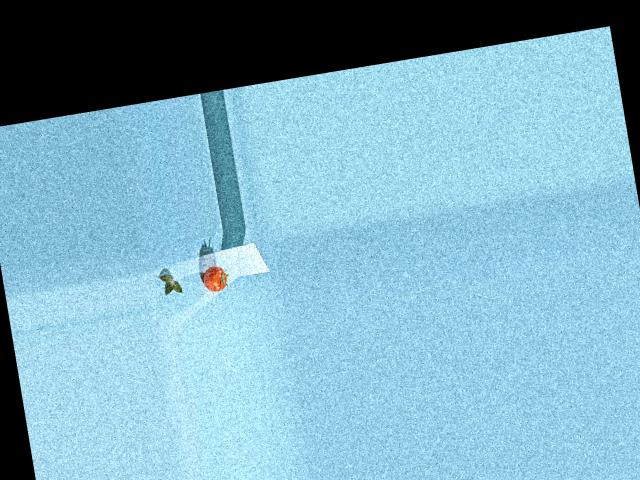tomato: (201, 263, 229, 293)
